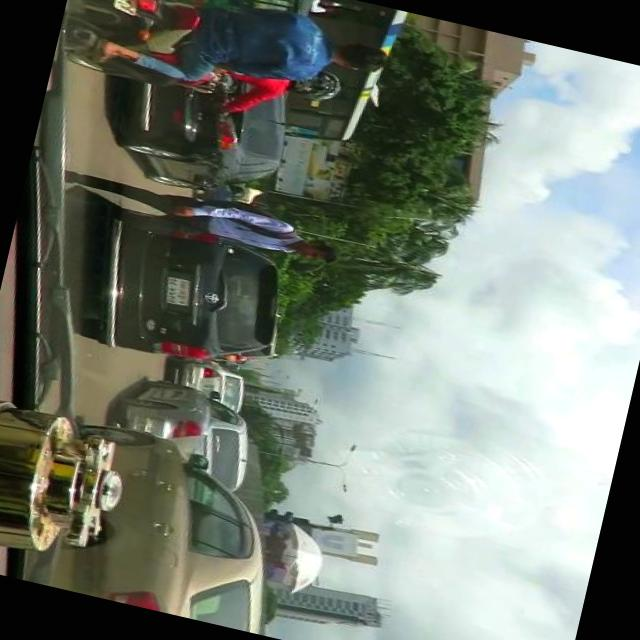car: (25, 409, 302, 632), (70, 203, 304, 385), (113, 62, 300, 210), (102, 368, 268, 494), (157, 350, 251, 412)
motorcycle: (55, 0, 402, 138), (147, 0, 319, 34)
